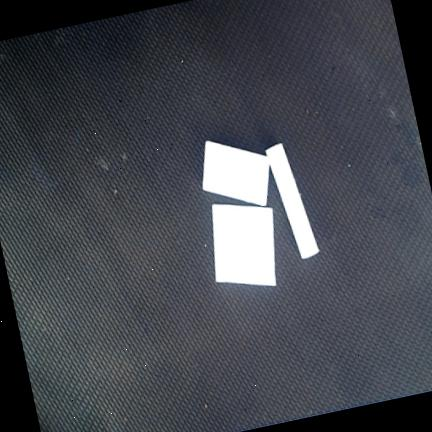Cilindro: (266, 142, 320, 260)
Paralelepipedo: (202, 140, 270, 207)
Piramide: (212, 204, 277, 287)
